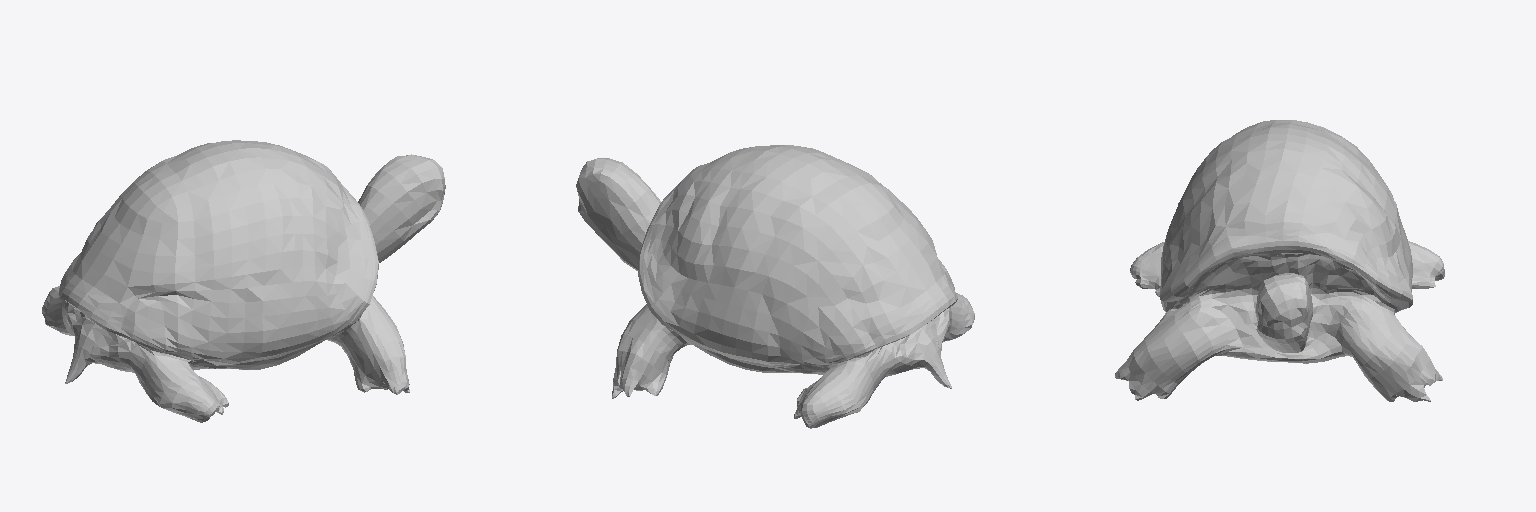
File: uploads_files_5388291_turtle_LP.obj
The picture shows the model from 3 angles: view 1: azimuth 30°, elevation 25°; view 2: azimuth 150°, elevation 25°; view 3: azimuth 270°, elevation 25°; orthographic projection.
Parts seen in each view (by area): view 1: mesh; view 2: mesh; view 3: mesh.
Boxes of the visible parts, box(x1,y1,x2,y2) form: mesh: box(42, 140, 445, 422); mesh: box(576, 145, 974, 428); mesh: box(1115, 120, 1444, 401).
Bounding box in the file's own units: 0.9947 × 0.5474 × 0.7602.